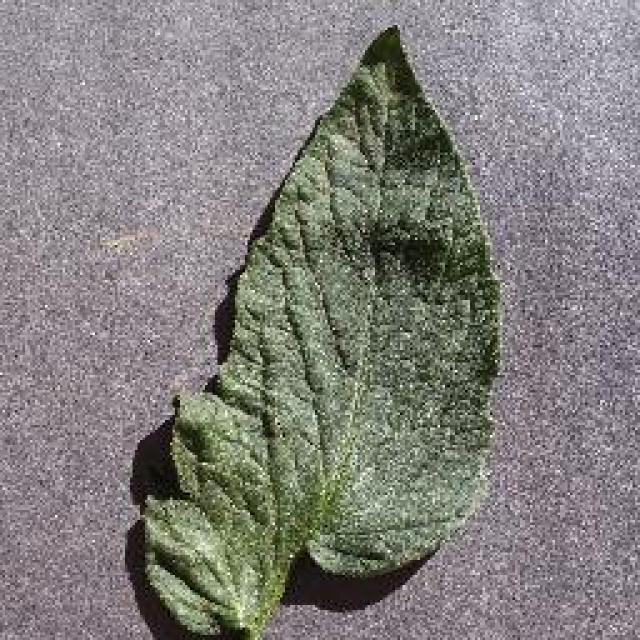Tomato_Healthy: (99, 23, 529, 636)
